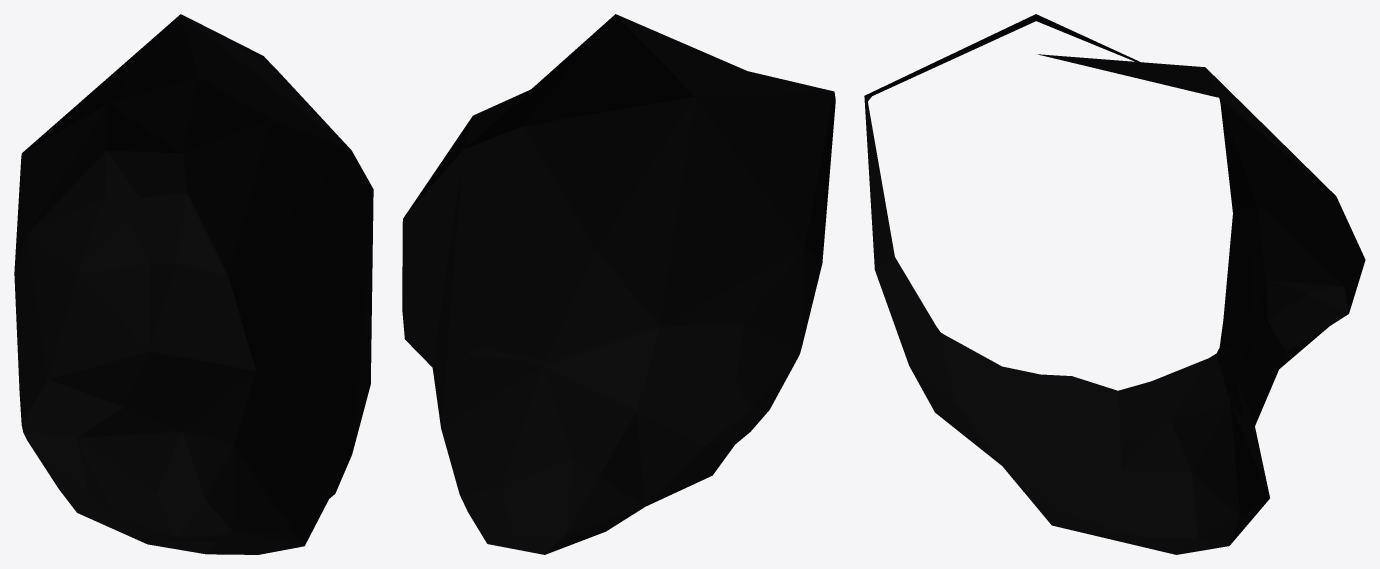
3 renders of one model, left to right at view 1: azimuth 30°, elevation 25°; view 2: azimuth 150°, elevation 25°; view 3: azimuth 270°, elevation 25°, orthographic. The views are drawn at different scales.
Size of the model in its own units: 0.5821 by 1.08 by 1.
1 material, 1 textured.
